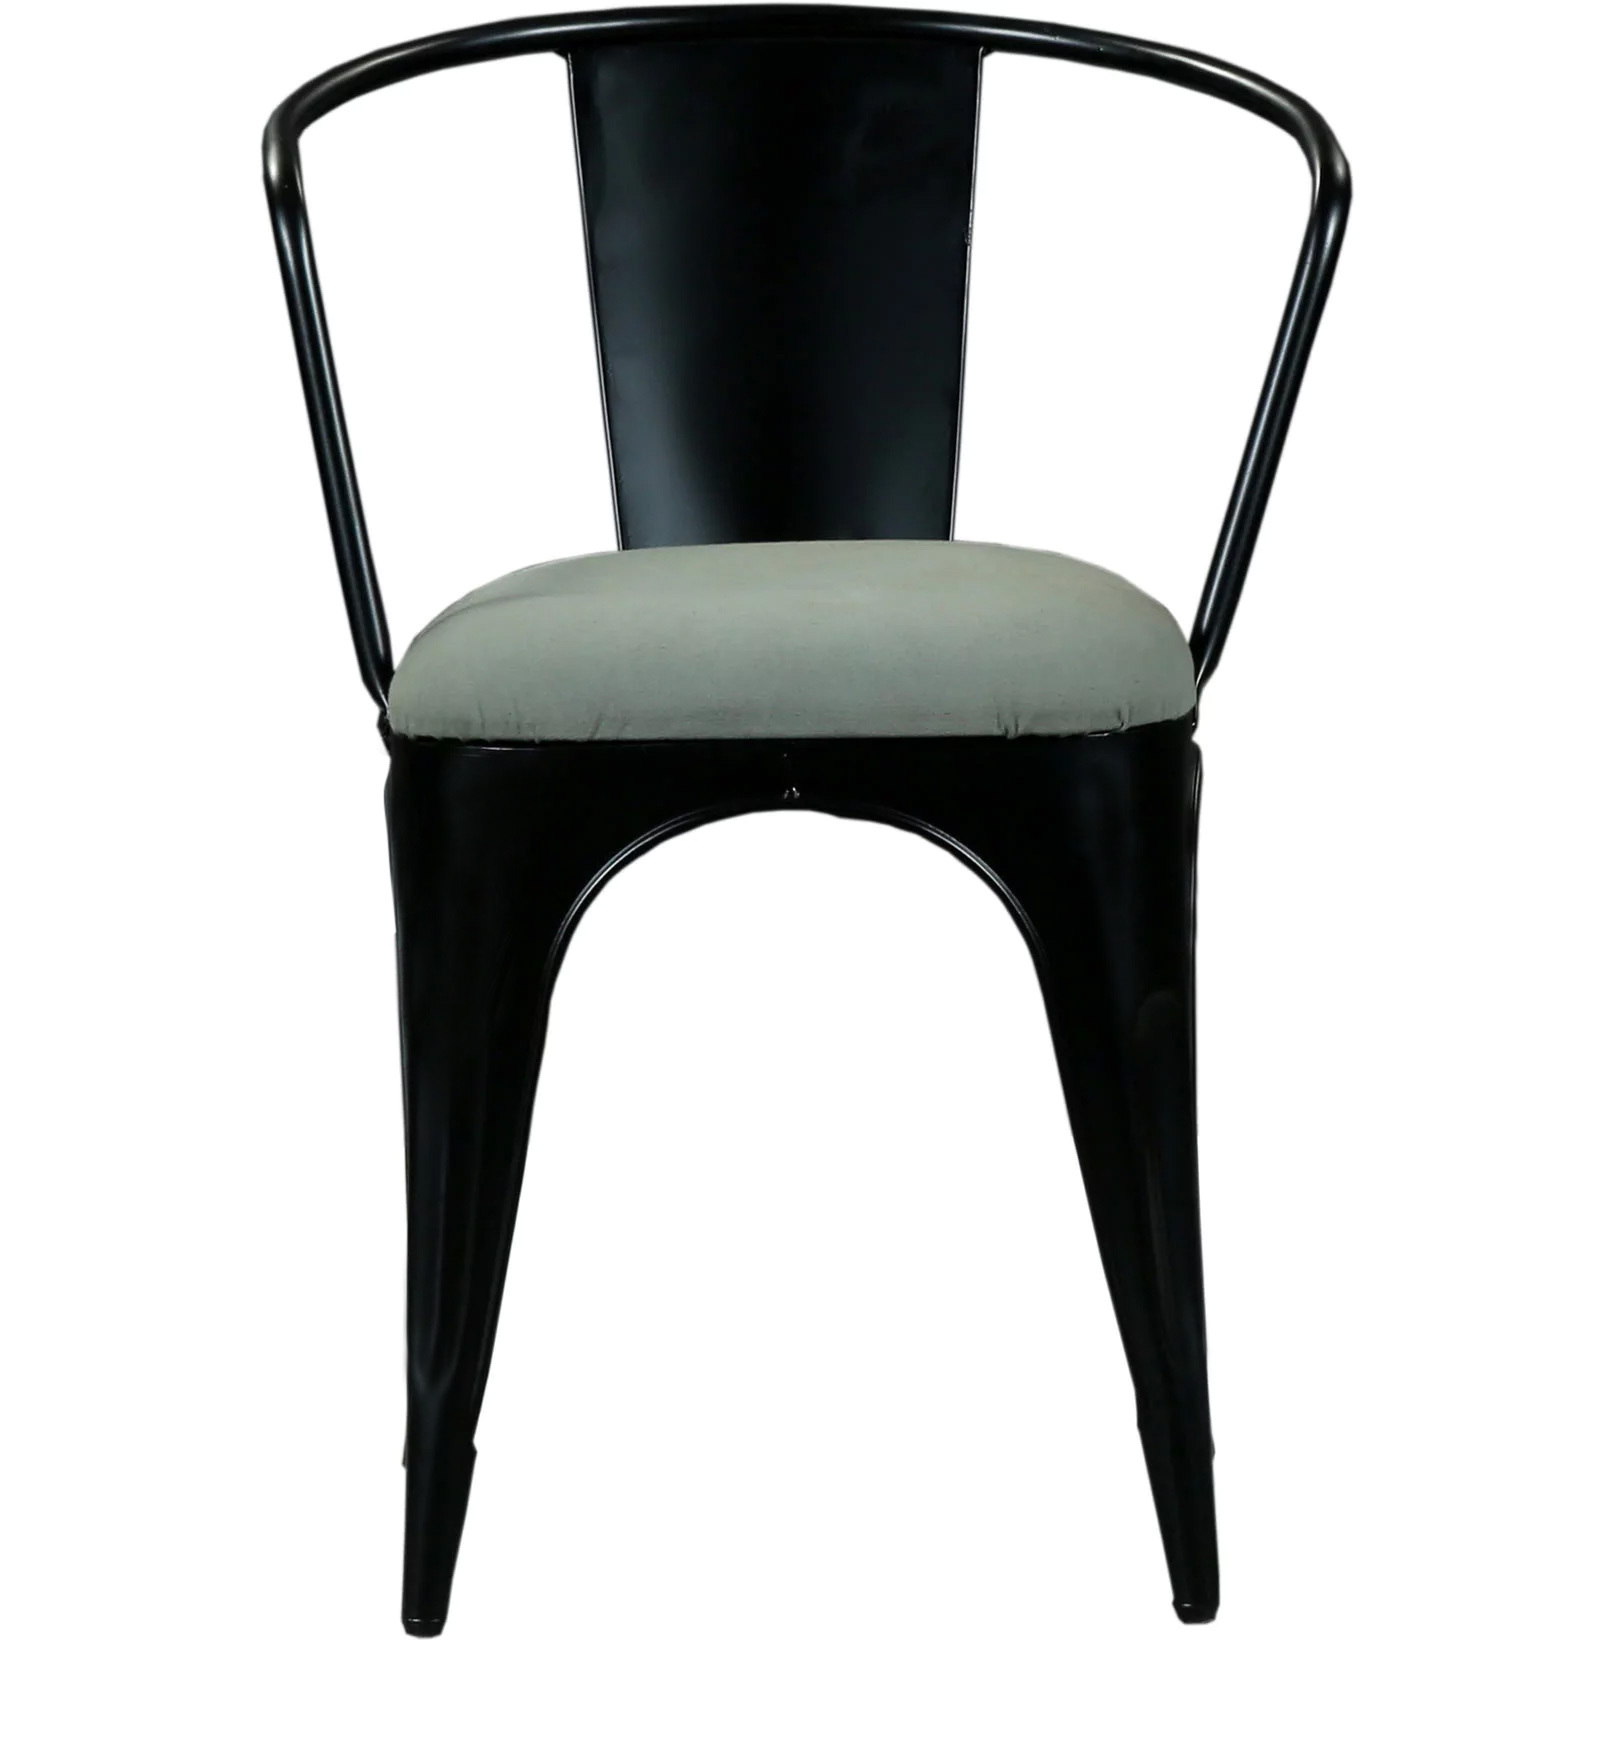Danlou Metal Chair with Cushion in Black Colour by Bohemiana: (195, 5, 1379, 1728)
